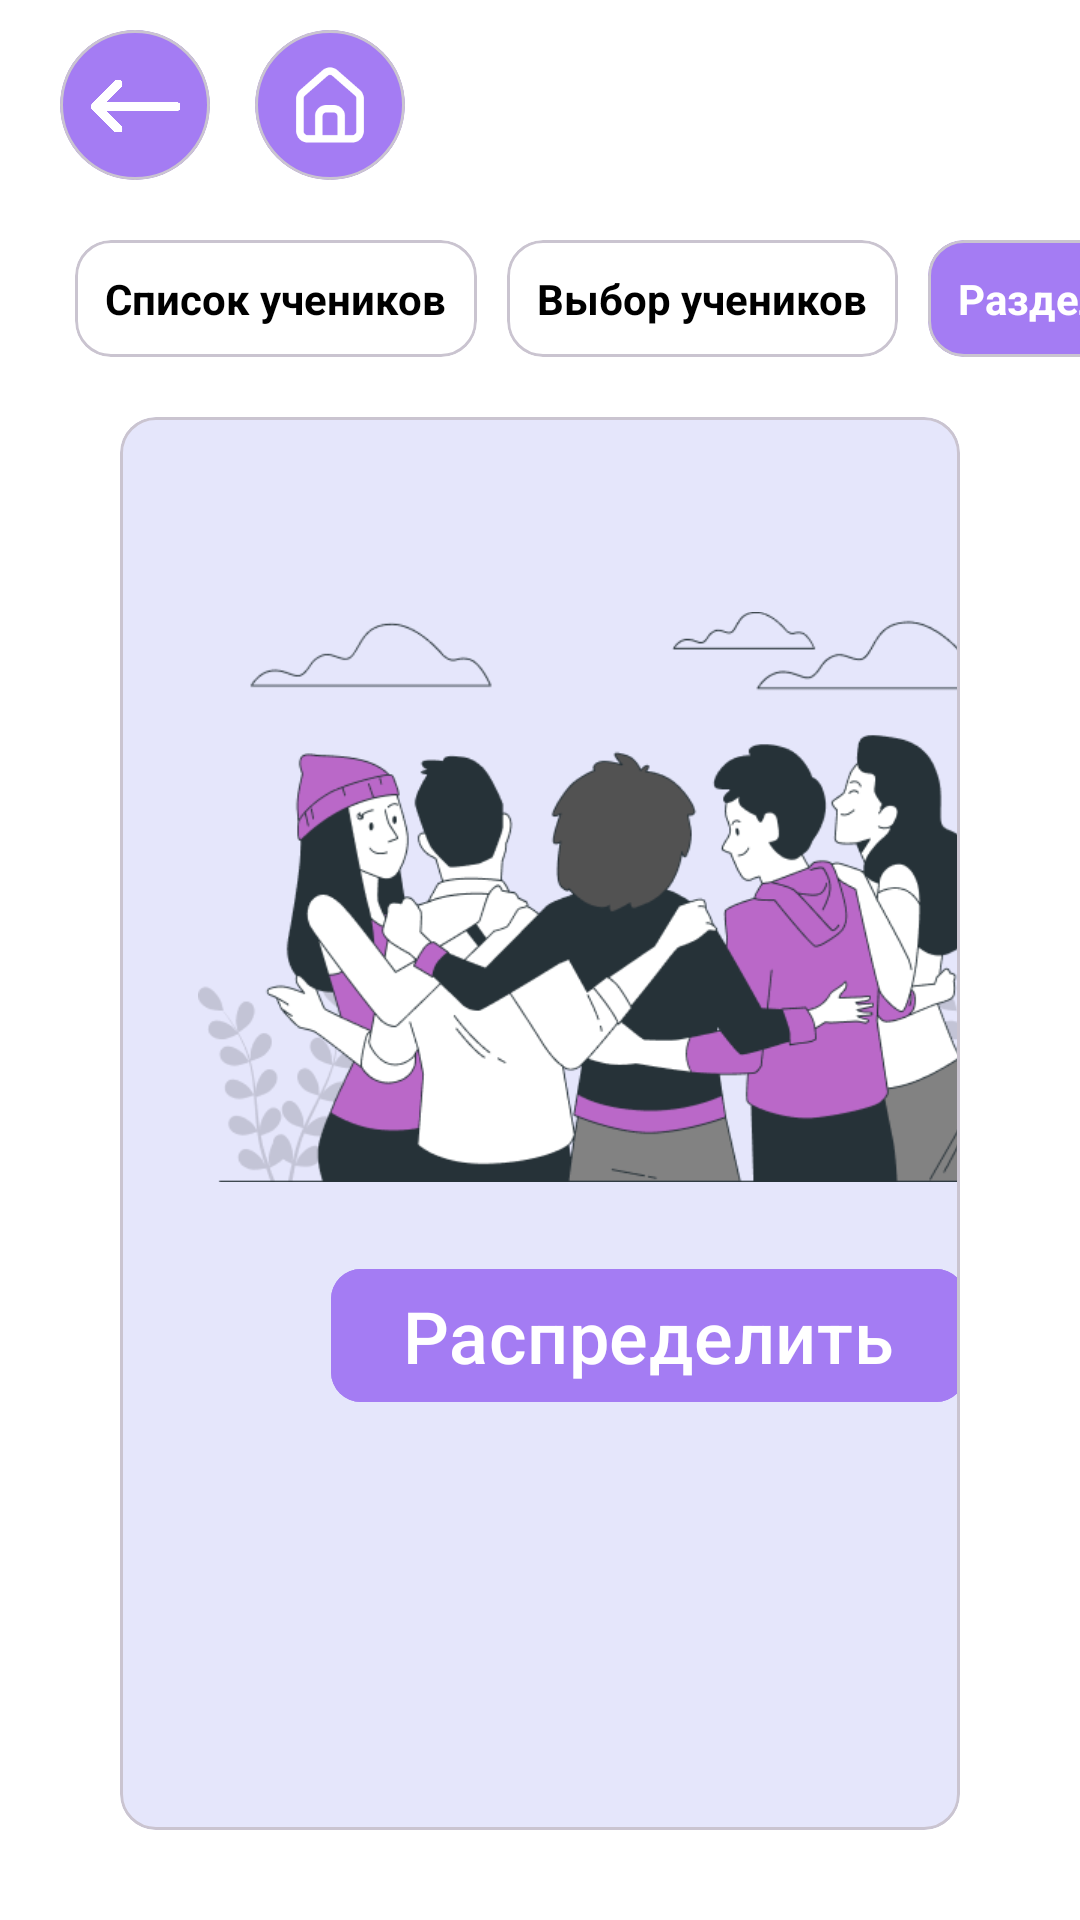

Named icons in this screenshot (1080px×1920px) and their centers, [x,y]:
arrow back: [135,106]
home: [330,105]
